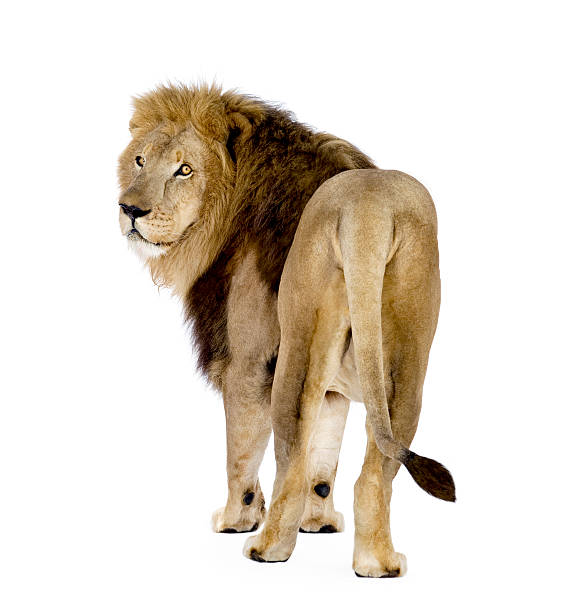lion: (69, 52, 331, 402)
